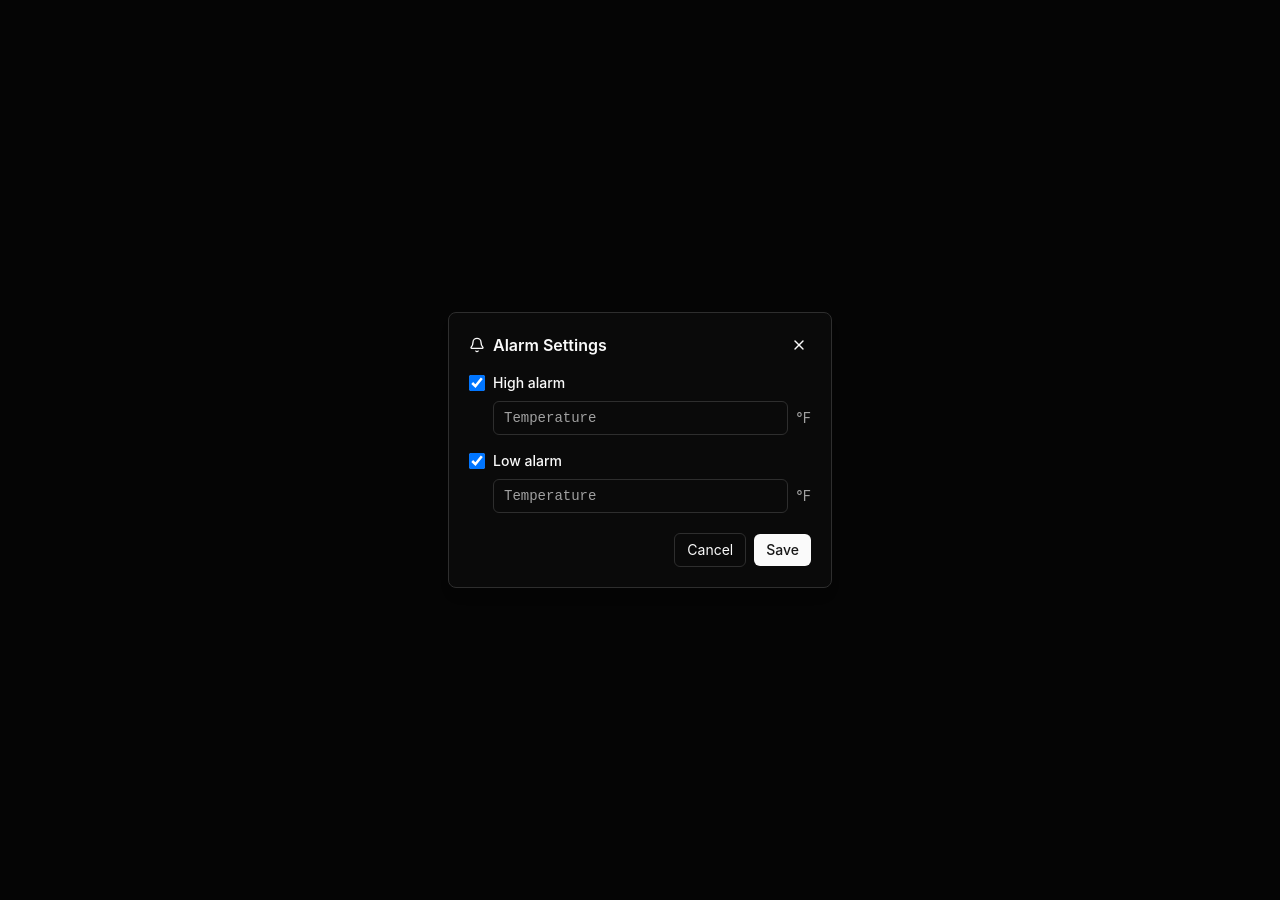
Test: AlarmConfig › validates high must be greater than low
Type "100" into the number field named "High alarm temperature" at (641, 418), box [493,401,788,435]
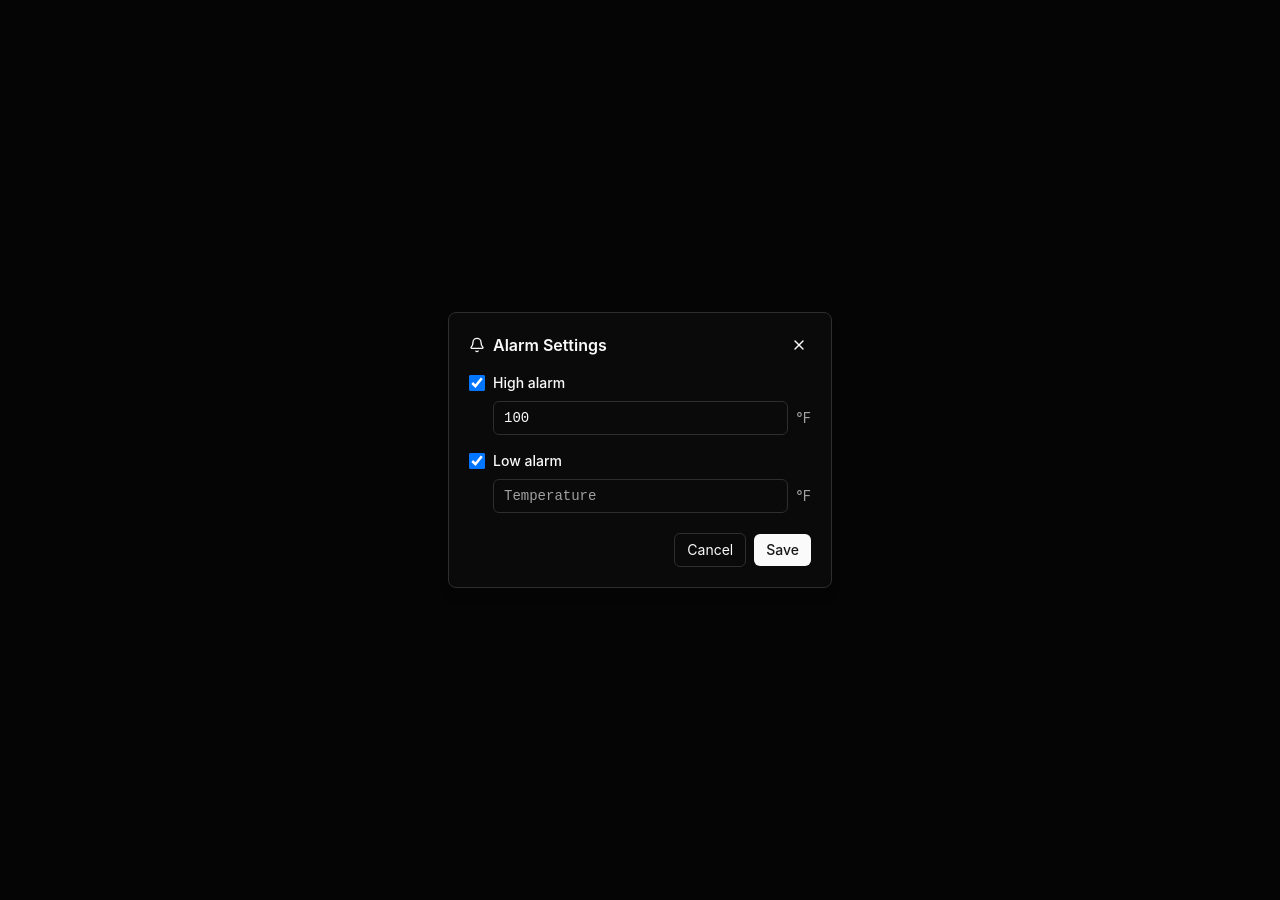
Type "200" into the number field named "Low alarm temperature" at (641, 496), box [493,479,788,513]
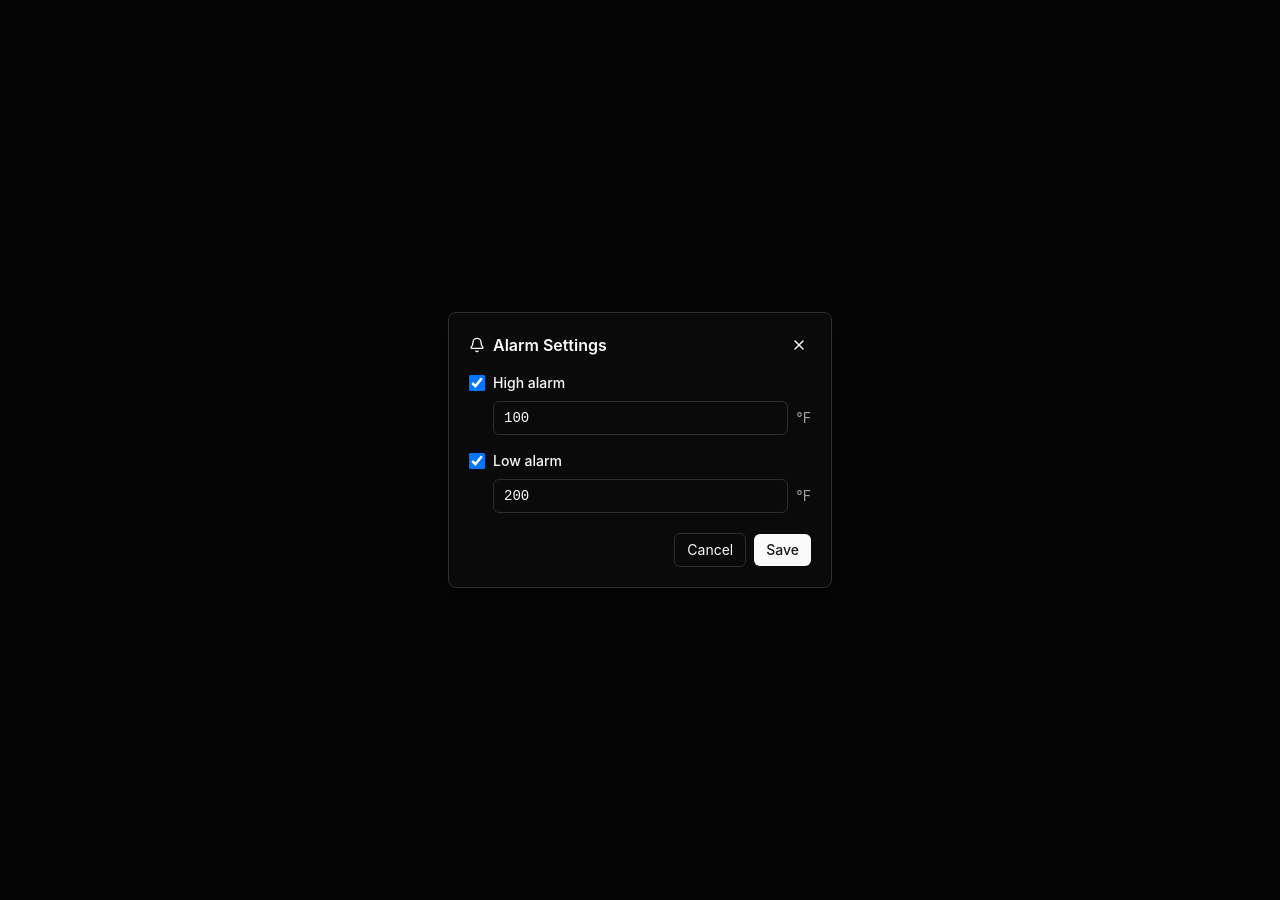
Click the button "Save" at (783, 550), box [754,534,811,566]
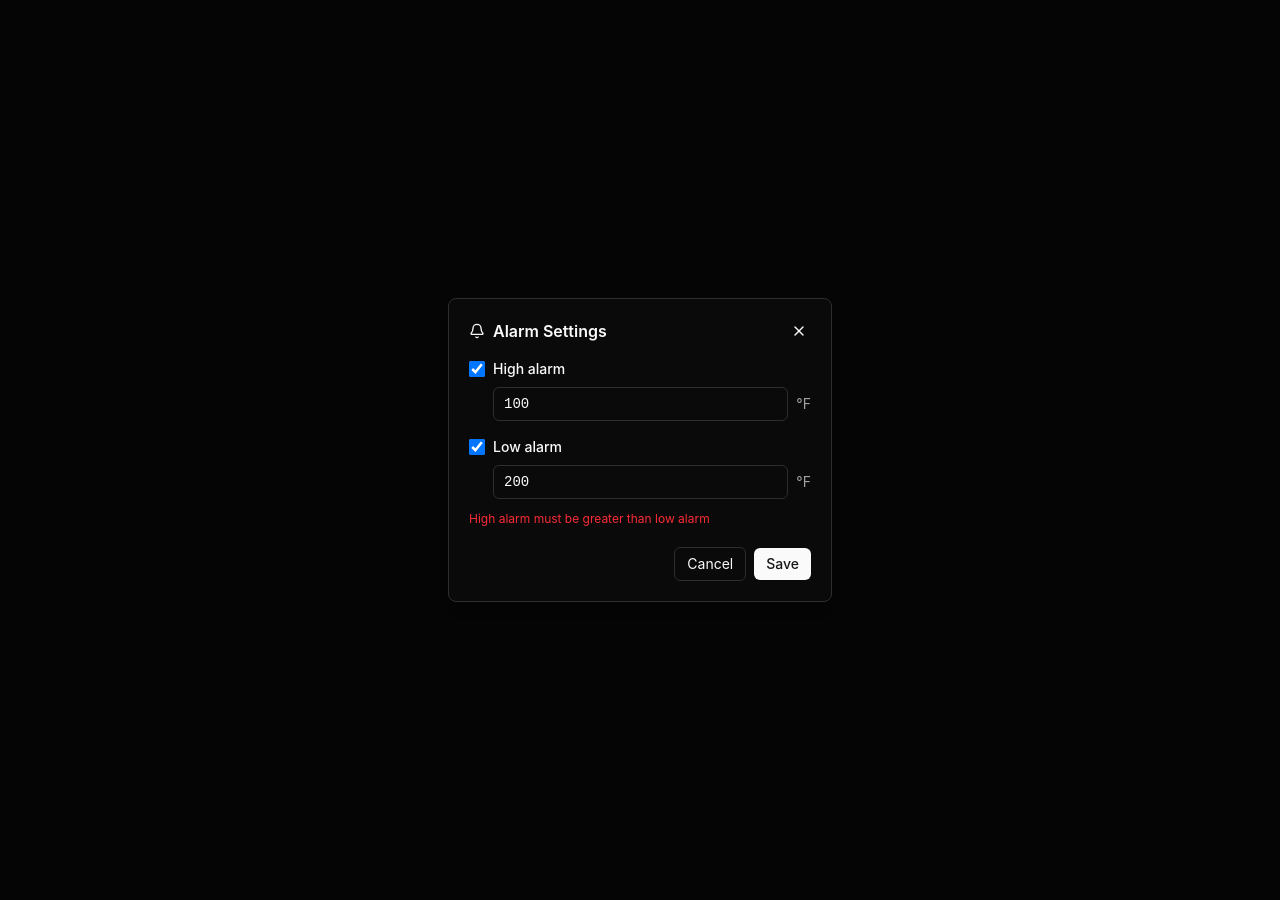
Expected: the message reads "High alarm must be greater than low alarm", [469,511,710,526]
